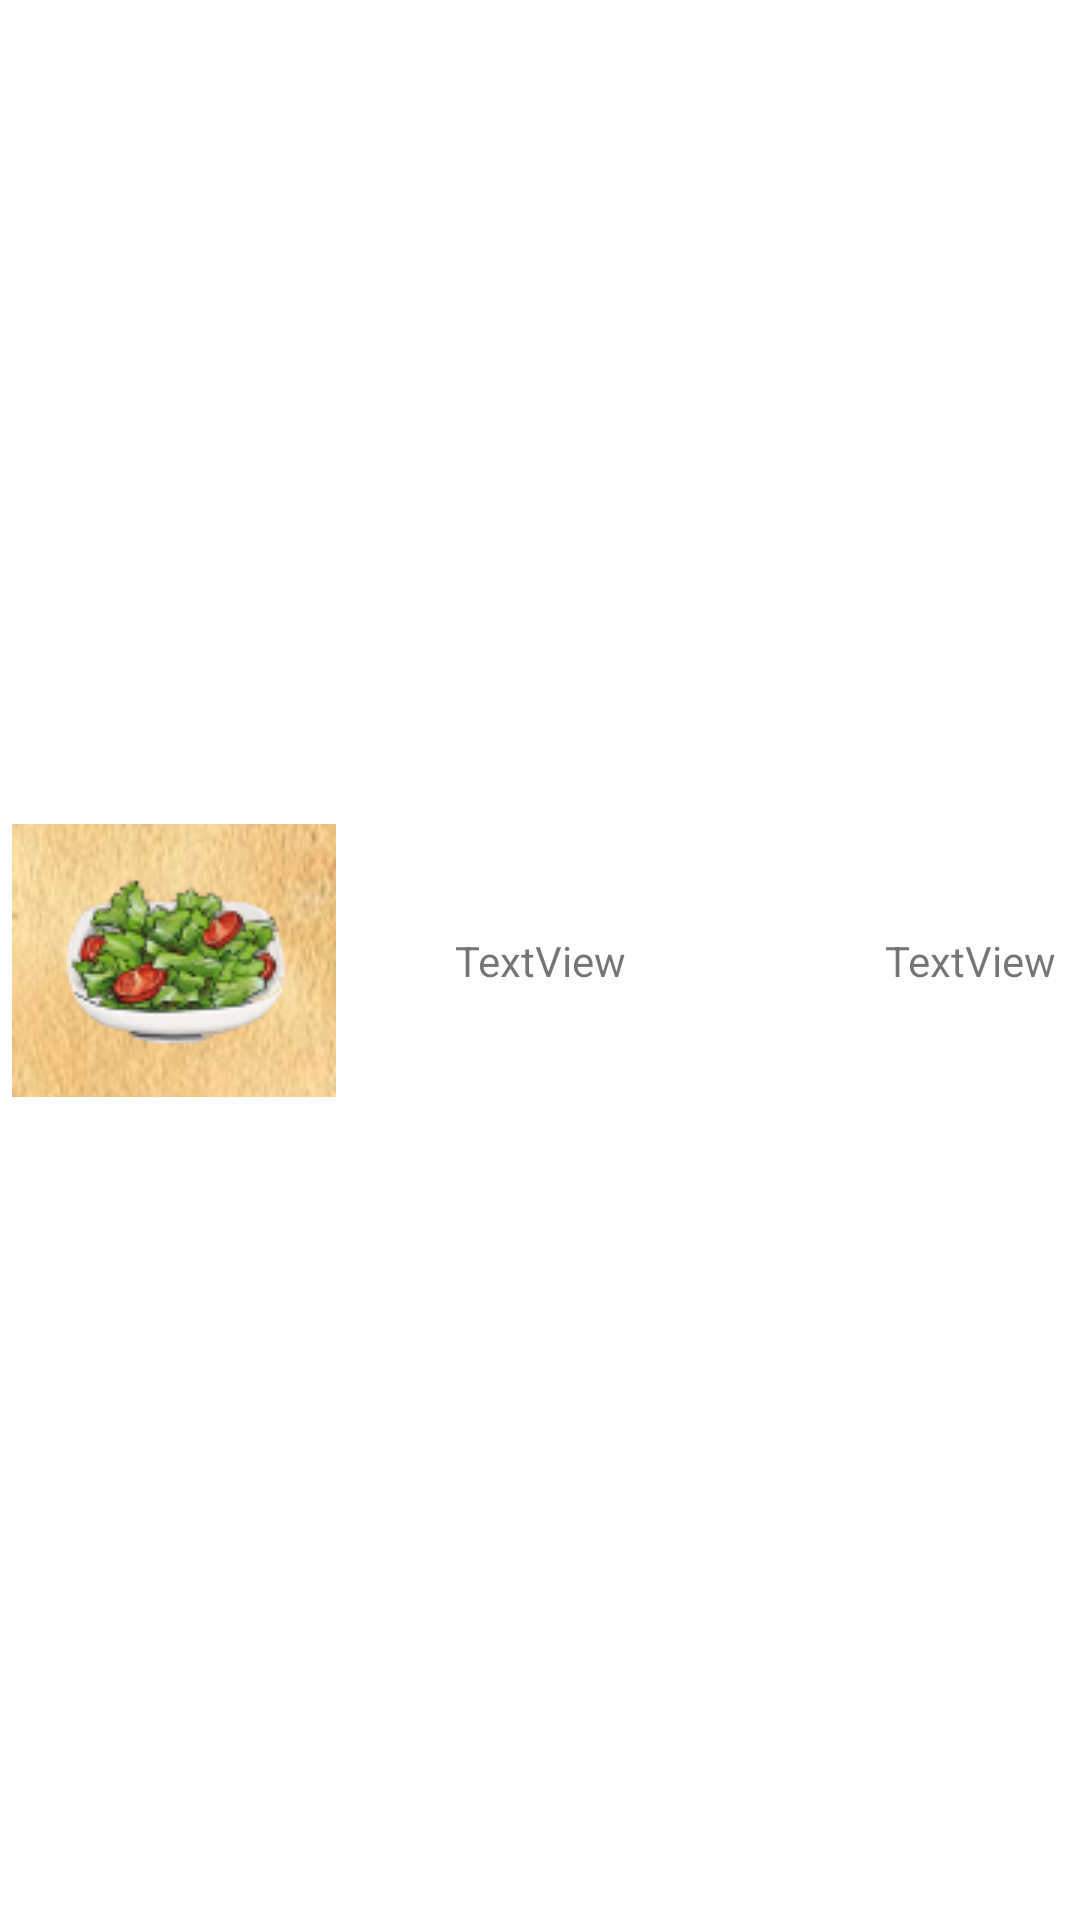

Icons on this 1080x1920 Android screen, each with the point to tap as [x,y]:
entr: [174,960]
